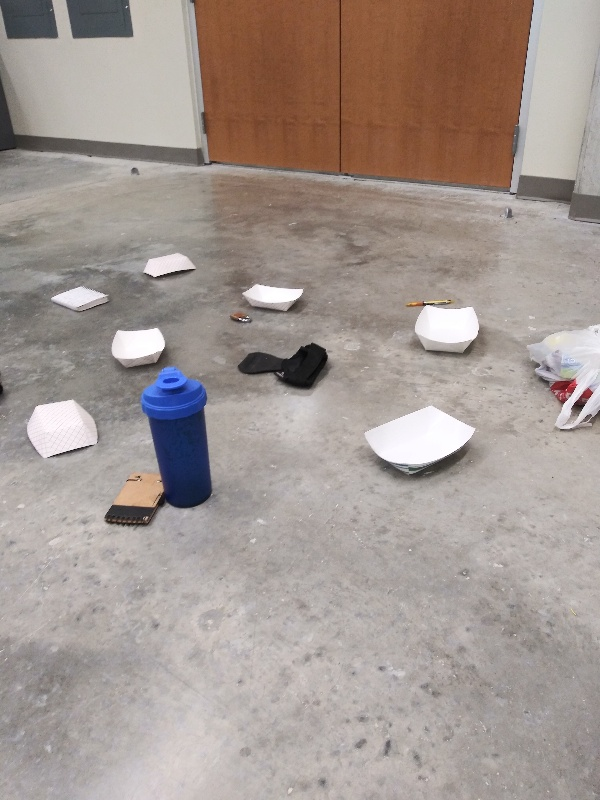plate: (357, 403, 483, 482), (22, 397, 102, 464), (410, 301, 484, 359), (107, 323, 169, 375), (239, 282, 309, 314), (138, 249, 200, 279)
